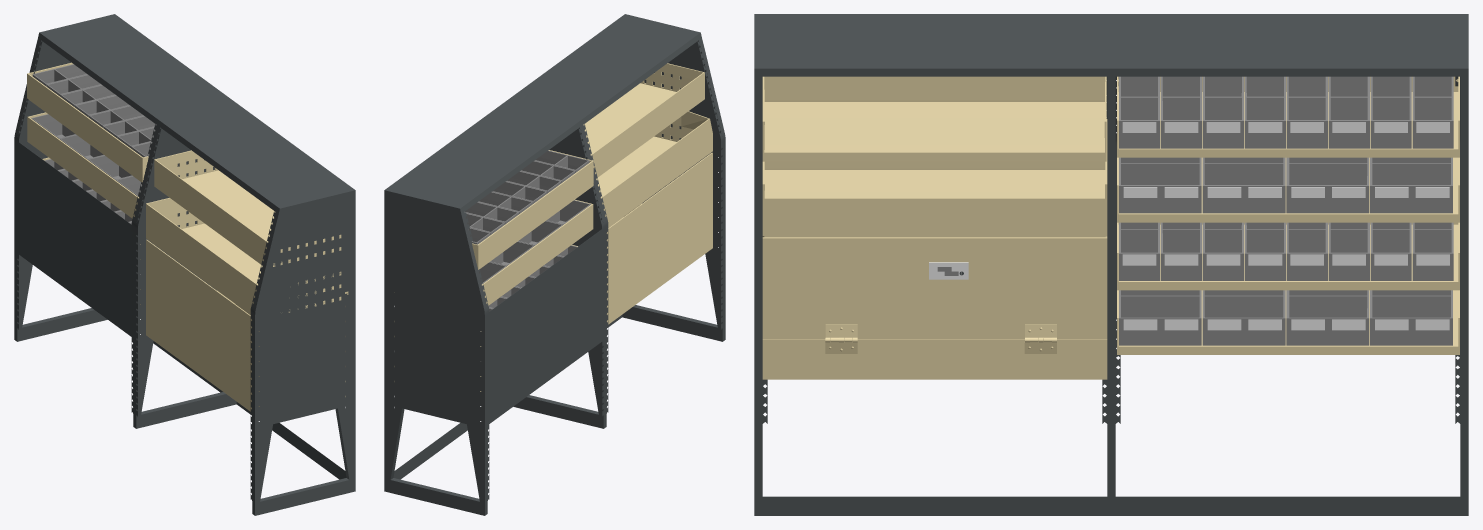
File: ContractorsKit–MediumBays.fbx
3 views of the same model, side by side, from view 1: azimuth 30°, elevation 25°; view 2: azimuth 150°, elevation 25°; view 3: azimuth 270°, elevation 25° (orthographic). The views are drawn at different scales.
Parts seen in each view (by area): view 1: Steel, Cream_Paint, Gray_Plastic; view 2: Steel, Cream_Paint, Gray_Plastic; view 3: Cream_Paint, Steel, Gray_Plastic, White.
Part boxes in pixels (x1,y1,x2,y2): Steel: (14, 14, 355, 515); Cream_Paint: (27, 62, 348, 411); Gray_Plastic: (31, 64, 156, 274); Steel: (384, 14, 725, 515); Cream_Paint: (394, 63, 712, 391); Gray_Plastic: (394, 150, 590, 361); Cream_Paint: (762, 76, 1459, 379); Steel: (754, 14, 1468, 515); Gray_Plastic: (937, 76, 1453, 345); White: (929, 122, 1449, 330).
Size of the model in its own units: 414 by 1160 by 1680.
